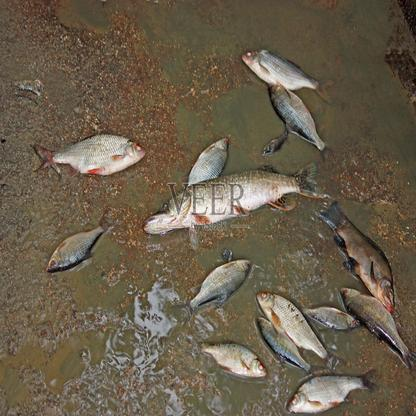deceased fish: (140, 163, 322, 234), (319, 205, 398, 314), (256, 292, 341, 372), (340, 286, 413, 368), (42, 209, 112, 277), (263, 81, 327, 153), (41, 135, 149, 174), (283, 370, 380, 411), (253, 317, 311, 375), (241, 50, 317, 91), (197, 339, 267, 379), (187, 135, 228, 188), (302, 305, 360, 330)
